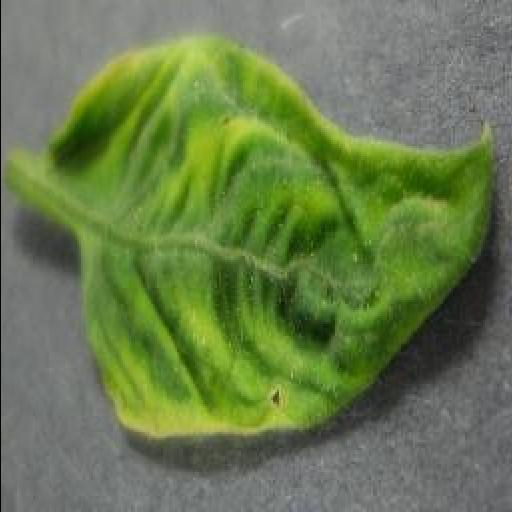disease_tomato: (46, 39, 496, 451)
